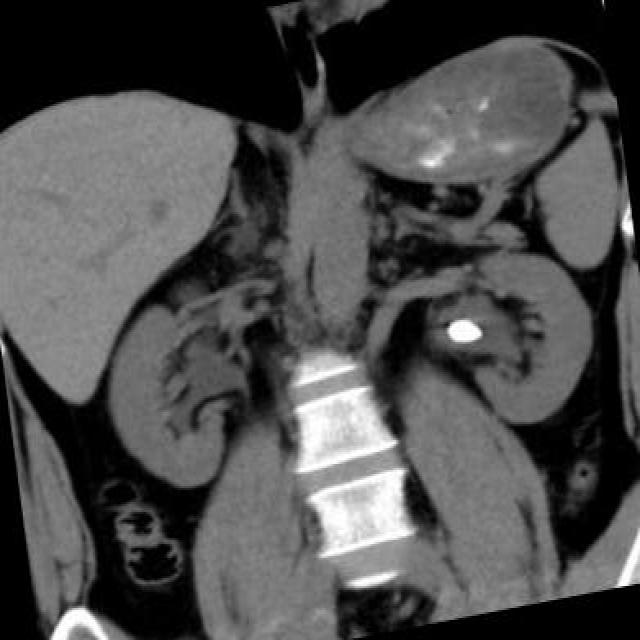Tas_Var: (441, 307, 487, 353)
